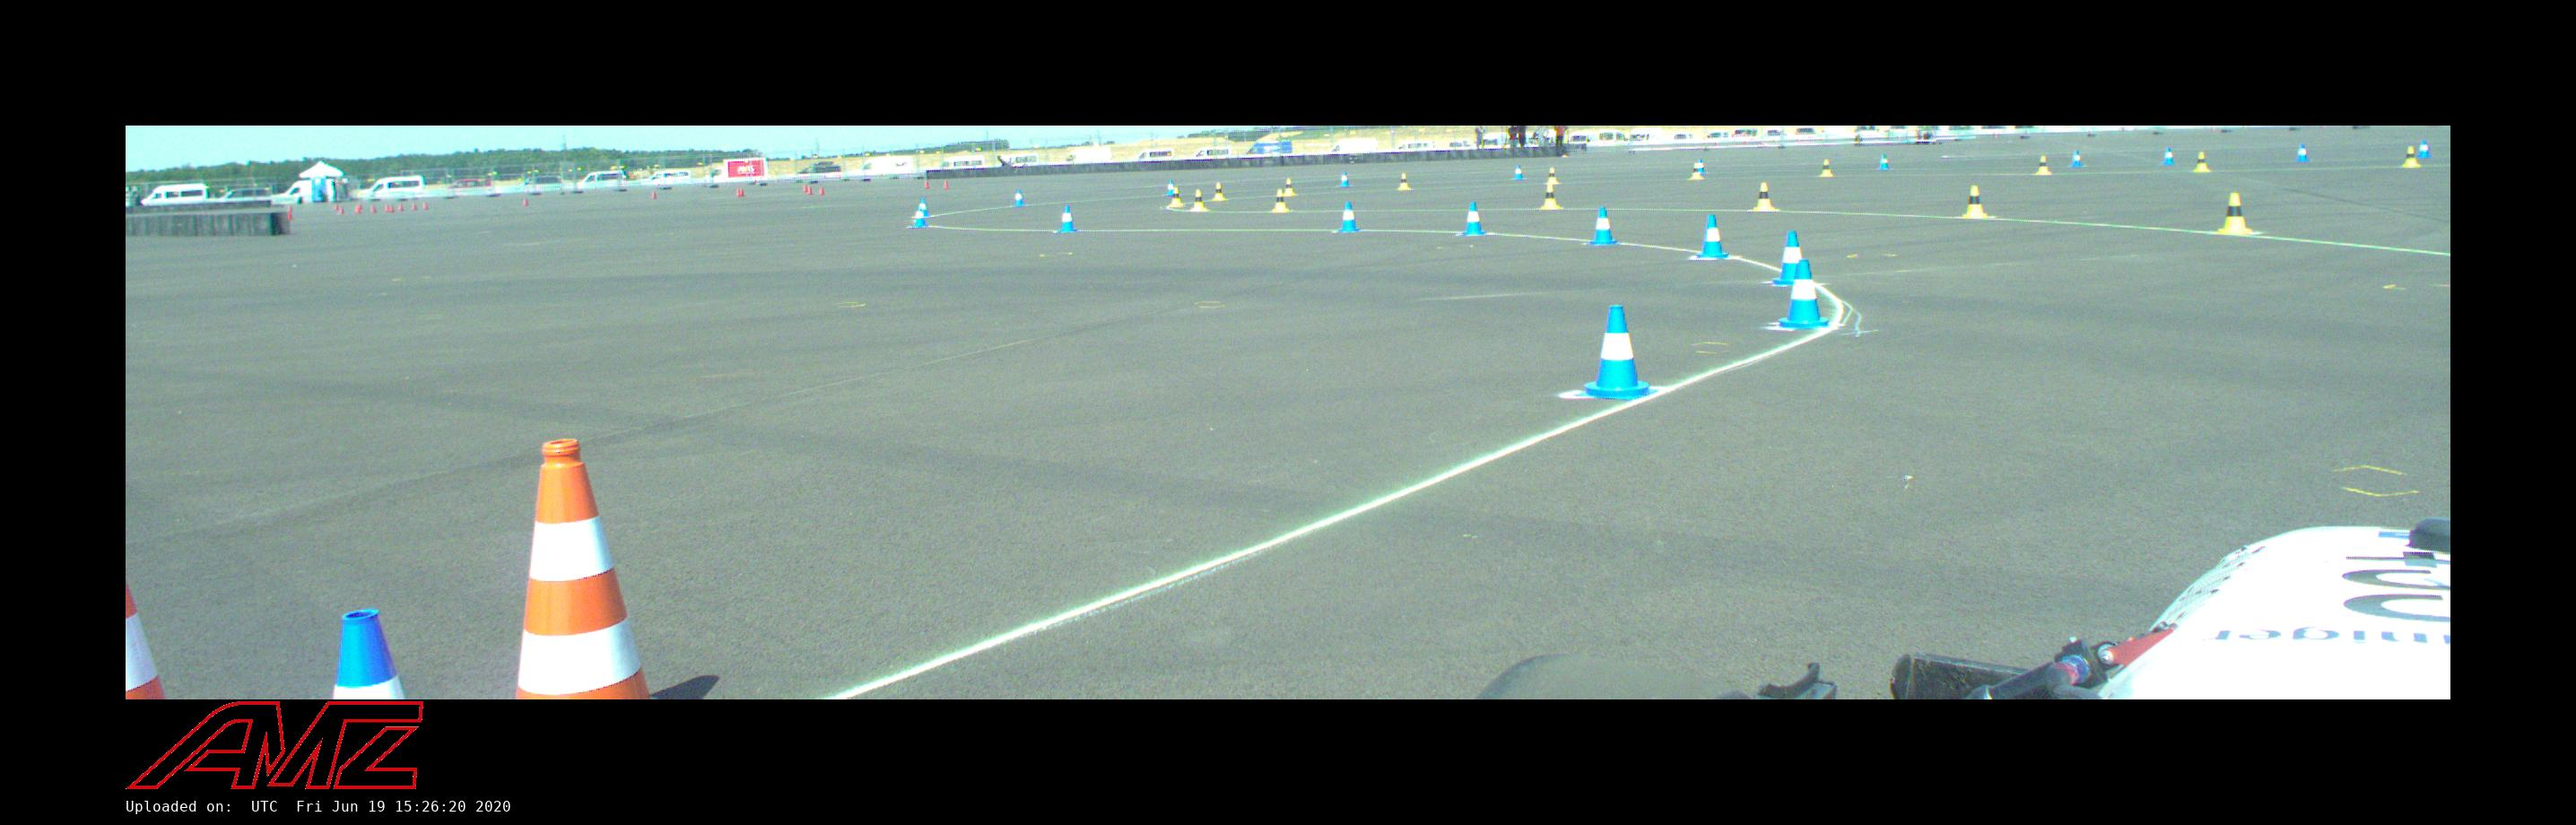blue_cone: (329, 608, 406, 700), (1585, 307, 1649, 398), (1774, 260, 1830, 329), (1771, 232, 1814, 286), (1697, 215, 1728, 258), (1589, 207, 1618, 243), (1462, 200, 1485, 235), (1337, 202, 1359, 232), (1058, 207, 1076, 232), (912, 207, 928, 228), (917, 199, 930, 219), (2418, 140, 2431, 158), (1513, 164, 1526, 181), (2164, 146, 2175, 164), (2297, 145, 2308, 161), (1014, 191, 1025, 207), (1879, 154, 1891, 171), (2072, 151, 2083, 166), (1339, 173, 1350, 187), (1165, 181, 1176, 196), (1695, 159, 1704, 174)
large_orange_cone: (519, 439, 652, 698)
yellow_cone: (2219, 192, 2251, 233), (1963, 186, 1986, 219), (1753, 184, 1774, 210), (1539, 184, 1561, 209), (1272, 189, 1290, 212), (2193, 151, 2211, 171), (1189, 191, 1207, 210), (2034, 156, 2052, 174), (2403, 146, 2420, 166), (1211, 182, 1226, 200), (1689, 163, 1704, 181), (1170, 187, 1183, 207), (1819, 159, 1833, 176), (1398, 173, 1411, 191), (1546, 168, 1559, 184), (1283, 179, 1295, 196)
